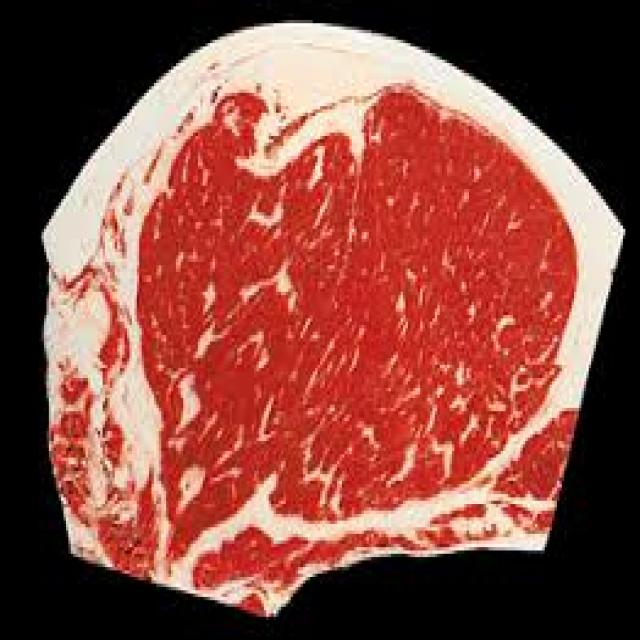beef: (44, 23, 625, 615)
